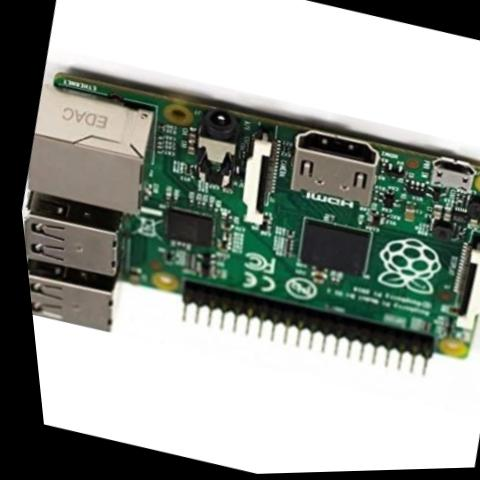Raspberry-Pi-1-Model-B-: (4, 42, 480, 431)
